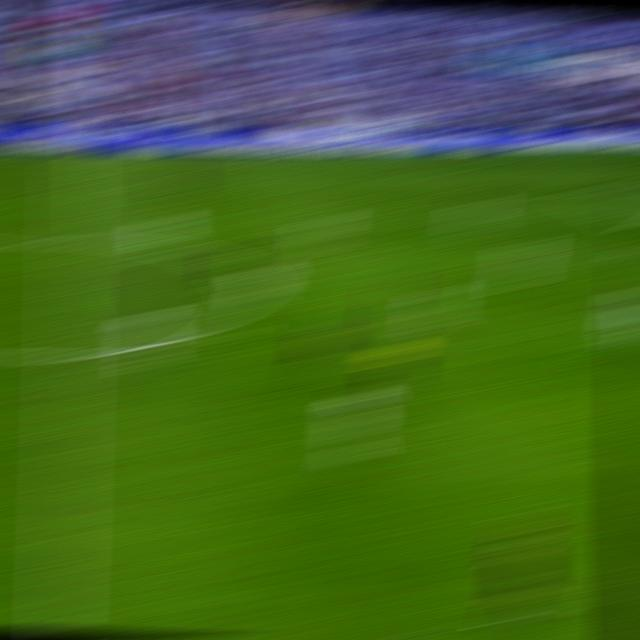halfcircle_bottom: (49, 341, 88, 367)
halfcircle_top: (52, 229, 89, 251)
midline_top_intersection: (56, 152, 89, 163)
